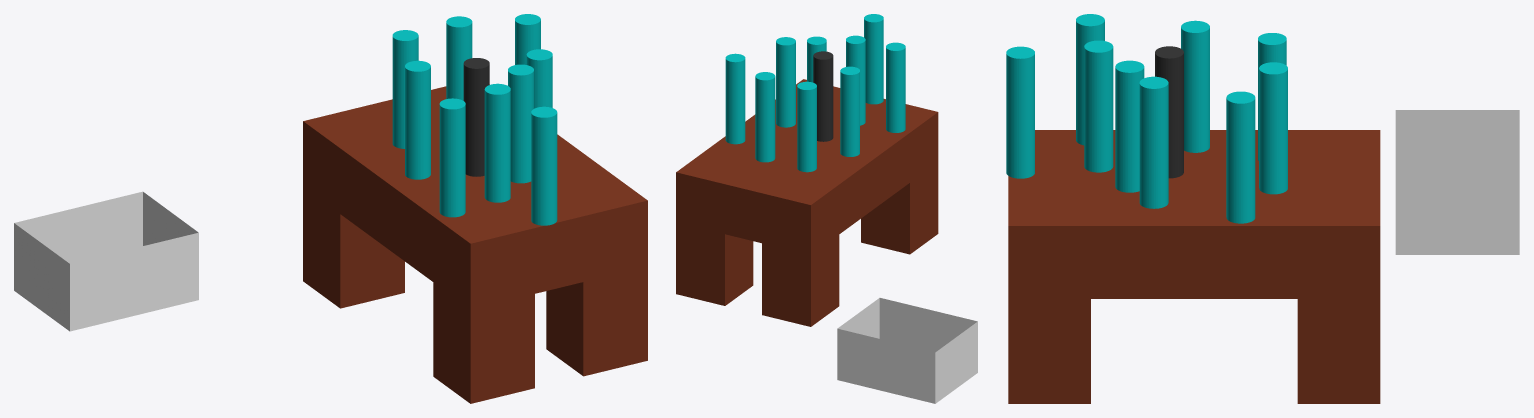
The model's file is real_can_world_10_cans.dae.
3 renders of one model, left to right at view 1: azimuth 30°, elevation 25°; view 2: azimuth 150°, elevation 25°; view 3: azimuth 270°, elevation 25°, orthographic. The views are drawn at different scales.
Parts seen in each view (by area): view 1: base (×14), SketchUp (×2); view 2: base (×14), SketchUp (×2); view 3: base (×13), SketchUp (×2).
Boxes of the visible parts, left/top/right/bottom form: base (×14): left=303, top=14, right=647, bottom=403; SketchUp (×2): left=14, top=191, right=198, bottom=331; base (×14): left=676, top=14, right=938, bottom=326; SketchUp (×2): left=837, top=298, right=977, bottom=403; base (×13): left=1006, top=14, right=1380, bottom=403; SketchUp (×2): left=1395, top=110, right=1519, bottom=254.
Size of the model in its own units: 1.25 by 1.24 by 0.7955.
